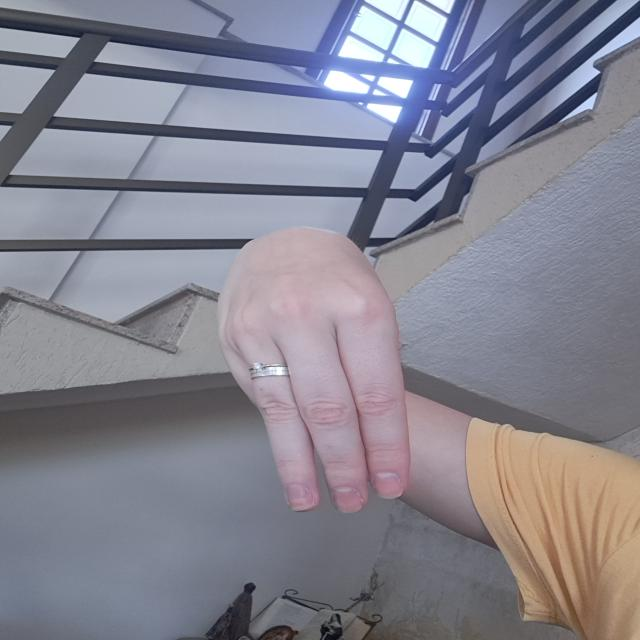M: (217, 219, 431, 522)
